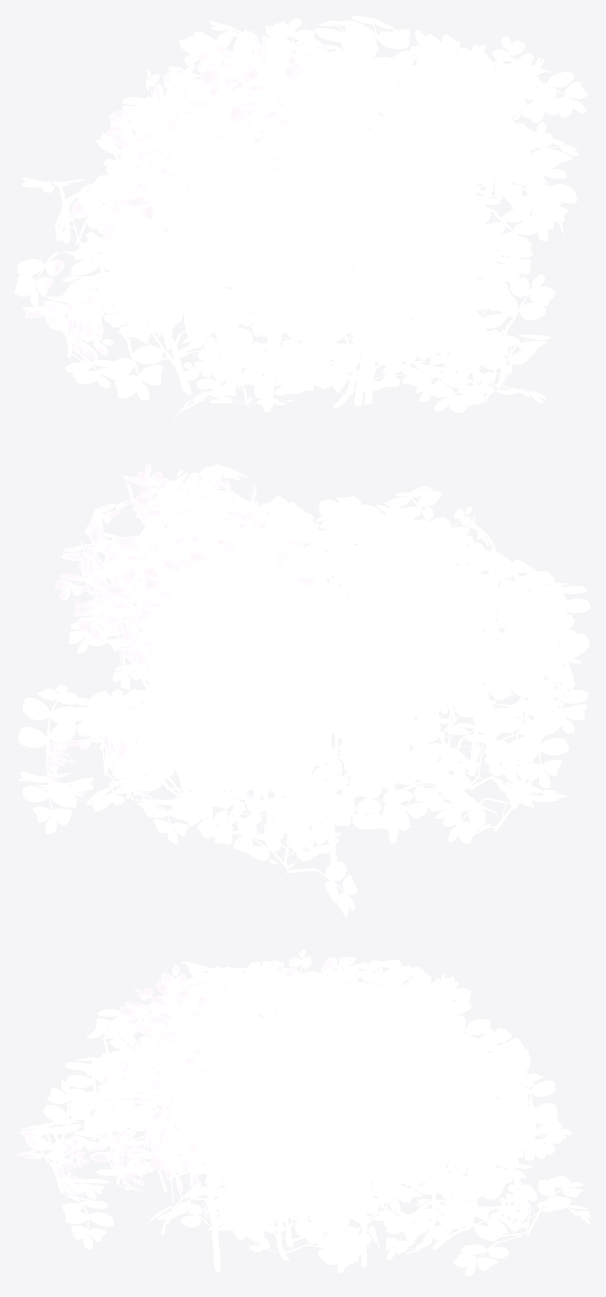
3 views of the same model, one above another, from view 1: azimuth 30°, elevation 25°; view 2: azimuth 150°, elevation 25°; view 3: azimuth 270°, elevation 25° (orthographic). The views are drawn at different scales.
Parts seen in each view (by area): view 1: SM_FH_Medium_Bush_Meadows_A_LOD0; view 2: SM_FH_Medium_Bush_Meadows_A_LOD0; view 3: SM_FH_Medium_Bush_Meadows_A_LOD0.
Boxes of the visible parts, x1,y1,x2,y2 form: SM_FH_Medium_Bush_Meadows_A_LOD0: (14,15,587,425); SM_FH_Medium_Bush_Meadows_A_LOD0: (18,464,590,917); SM_FH_Medium_Bush_Meadows_A_LOD0: (15,949,590,1276).
Bounding box in the file's own units: 1.74 × 1.08 × 2.03.
1 material, 1 textured.
